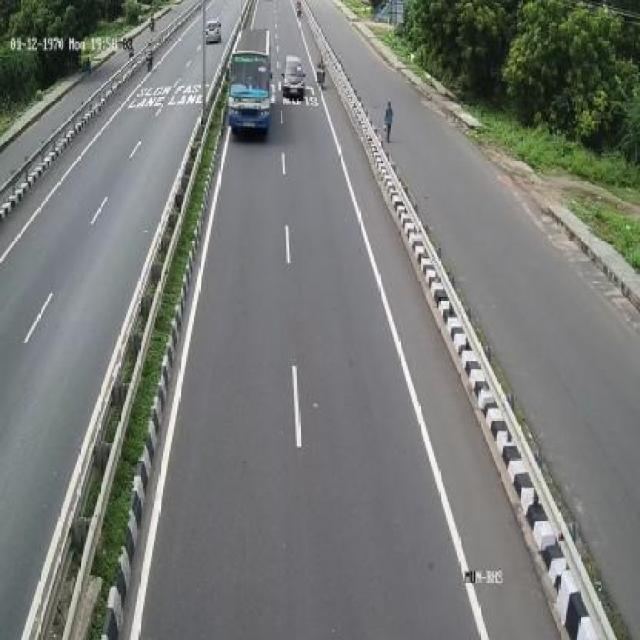car: (283, 50, 308, 104)
